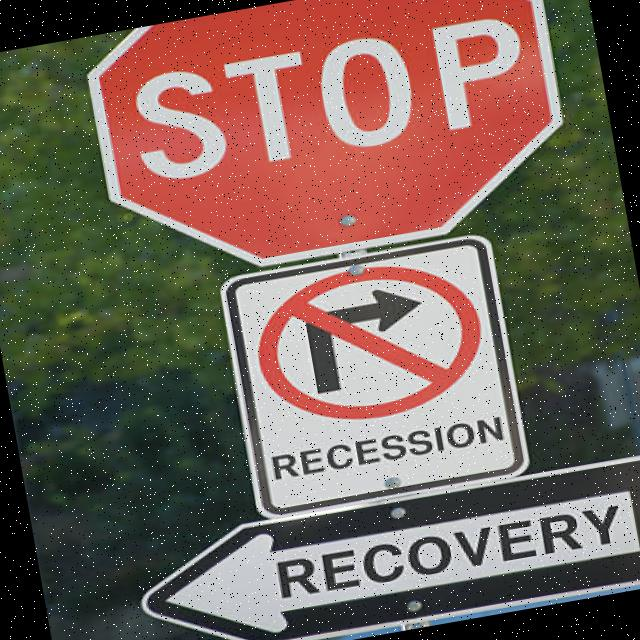stop: (72, 0, 601, 298)
